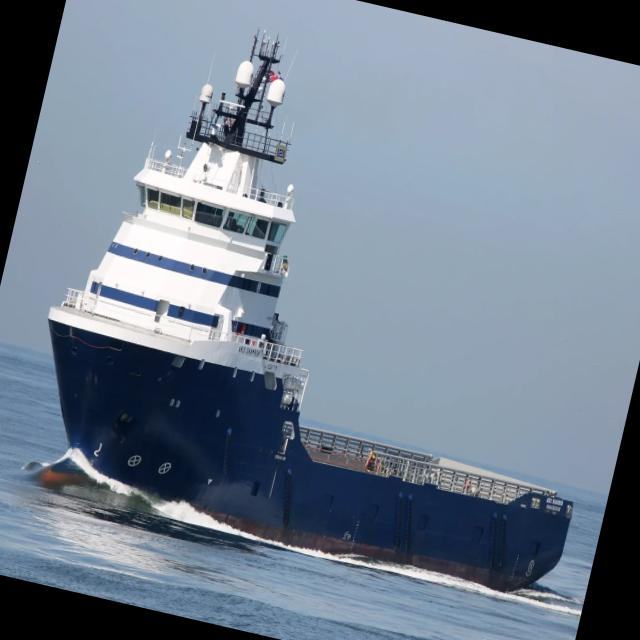Offshore: (47, 31, 573, 590)
